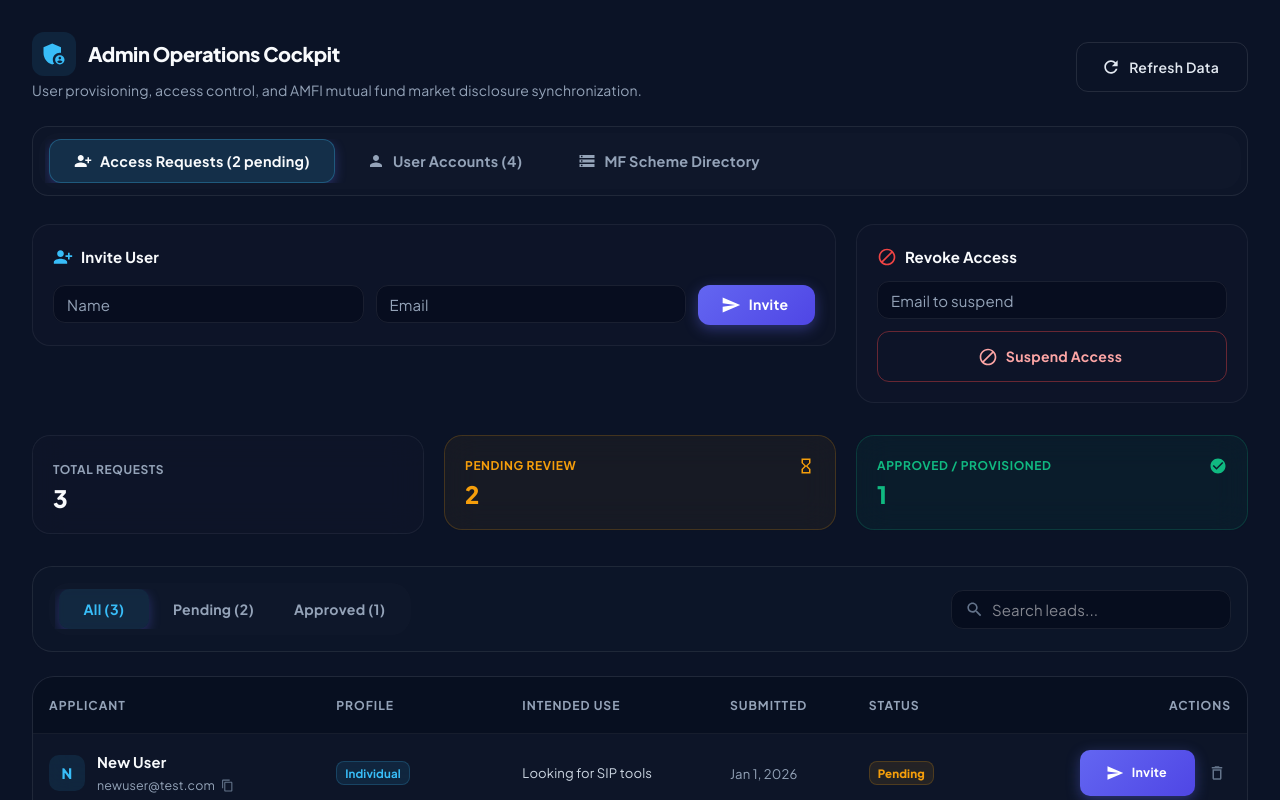
Scenario: AdminConsole › copies applicant email and shows copied state
The image size is (1280, 800).
Expected: the text "newuser@test.com" is shown, [97,776,215,796]
Click the button with test id "ContentCopyIcon": (227, 786) [219,778,235,794]
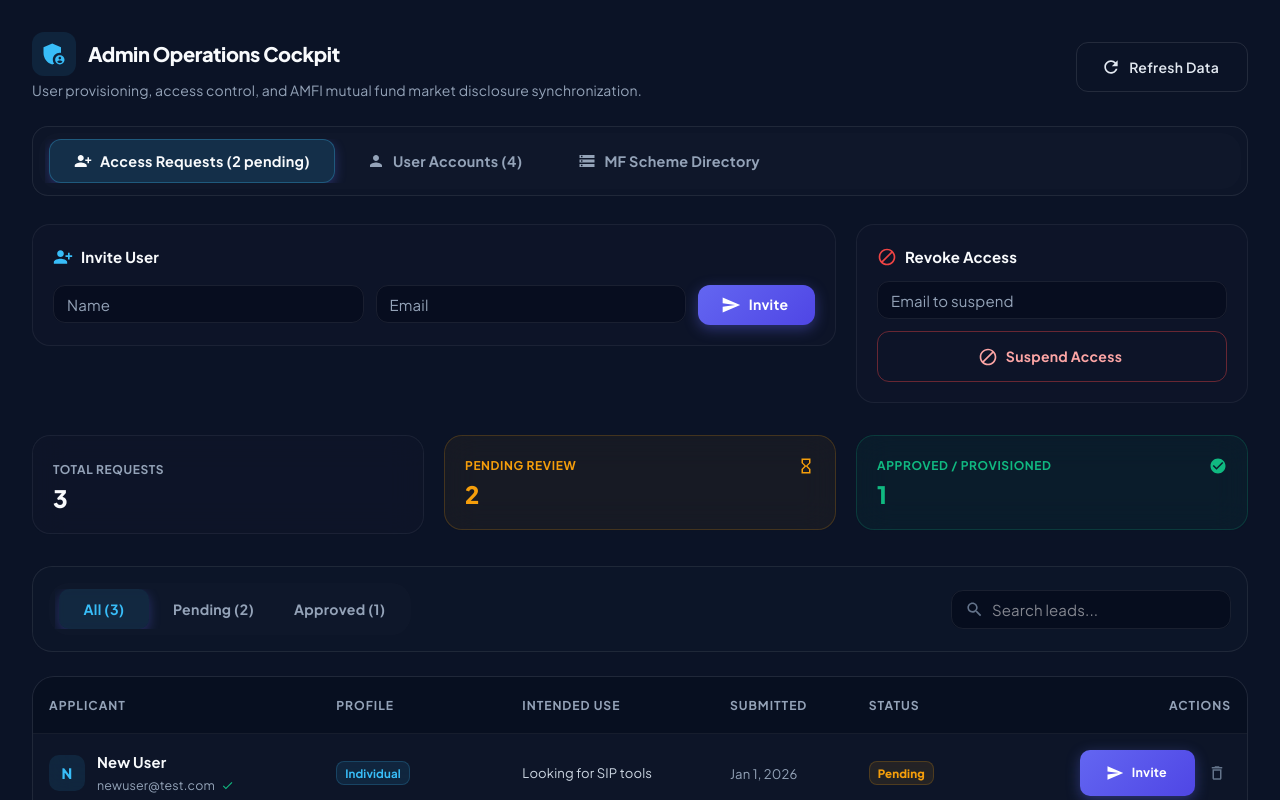
Expected: the icon with test id "CheckIcon" is shown, [220,779,234,792]
